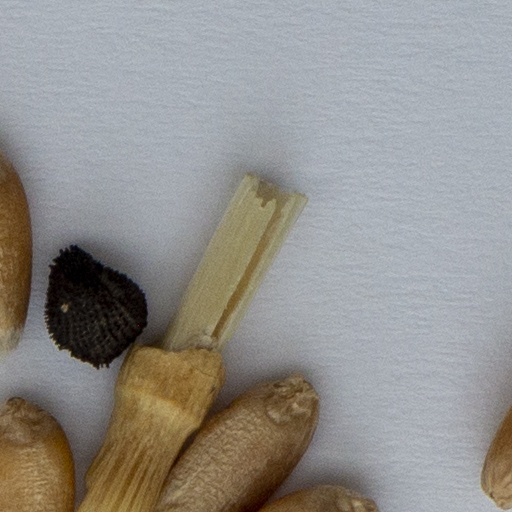Peel-poly: (77, 173, 305, 511)
